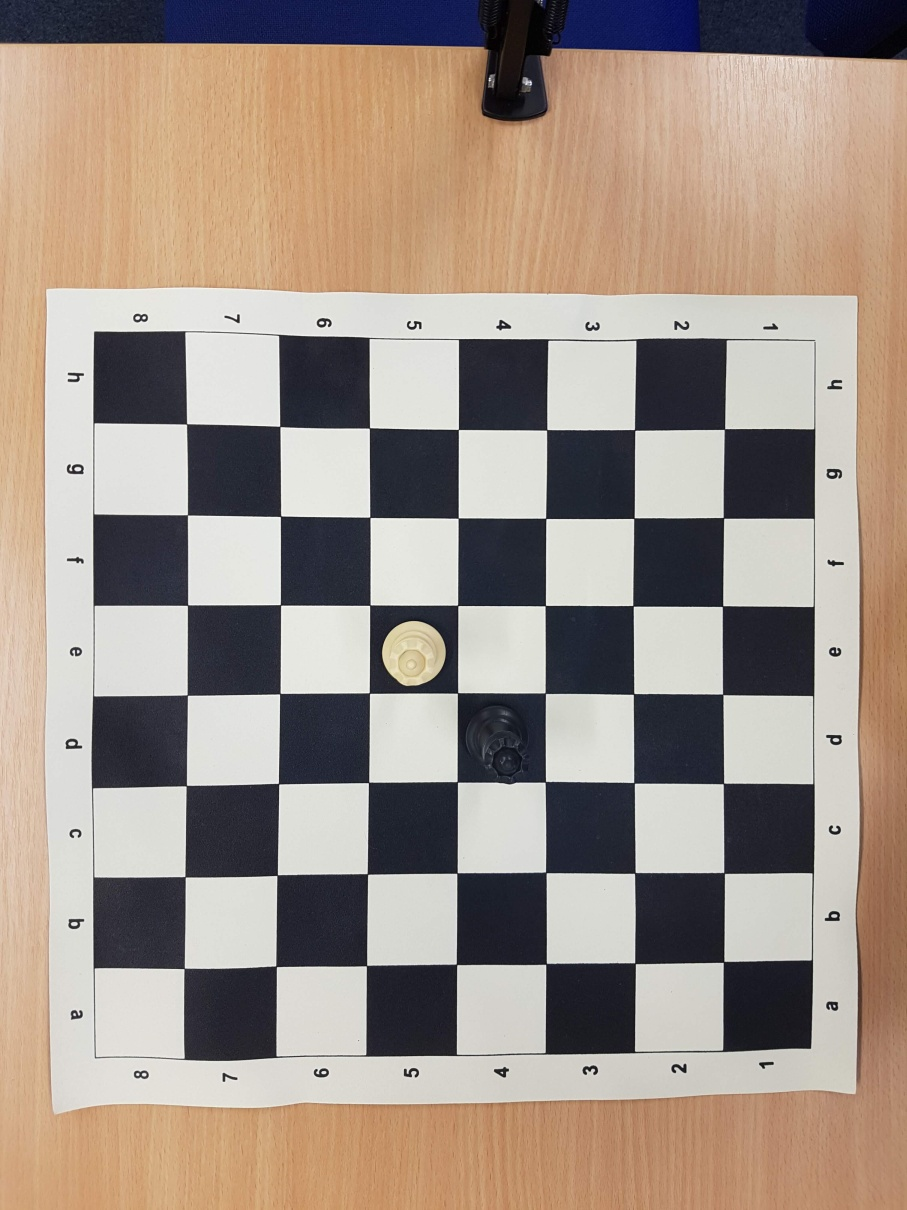chess_queen: (465, 707, 528, 785), (383, 622, 444, 685)
